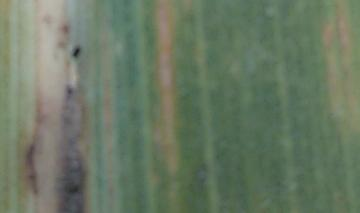tarspot: (21, 141, 40, 194), (40, 10, 53, 28), (63, 183, 81, 195), (55, 38, 70, 49), (71, 45, 81, 61), (59, 22, 71, 34), (64, 82, 74, 96)
